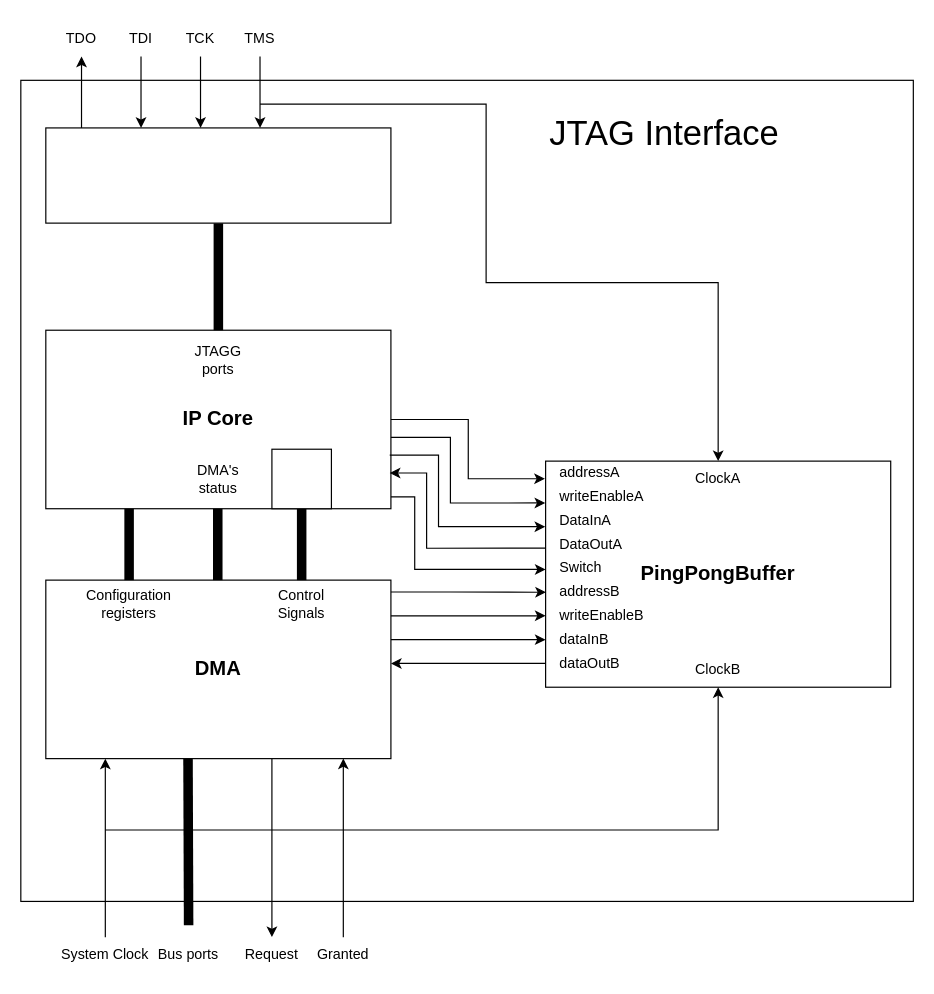
Some shapes in this 934 by 994 pixel diagram are drawn without their labels. The centre of each missing label's shape, as x and y in pixels:
JTAGG: the point at 218,175
Synchro flops: the point at 301,478
